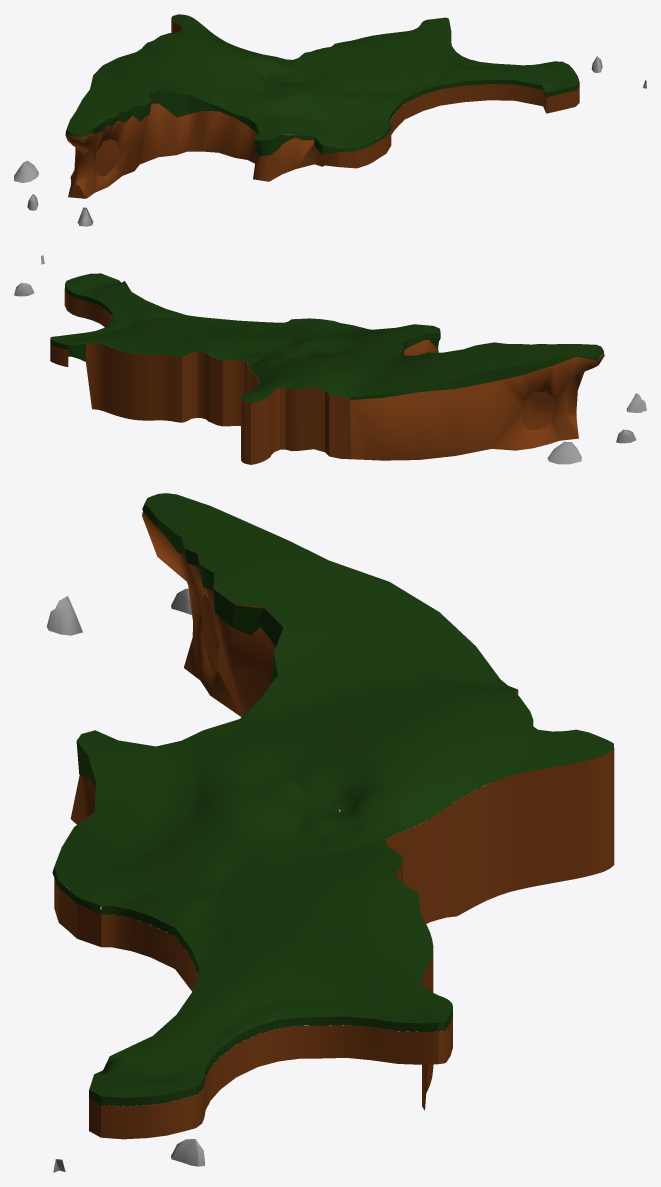
File: ISLA.FBX
The picture shows the model from 3 angles, top to bottom: view 1: azimuth 30°, elevation 25°; view 2: azimuth 150°, elevation 25°; view 3: azimuth 270°, elevation 25°; orthographic projection. The views are drawn at different scales.
Visible parts, largest first — view 1: grass_polygon15; view 2: grass_polygon15; view 3: grass_polygon15.
Part boxes in pixels (bbox=[...]): grass_polygon15: bbox=[14, 14, 646, 226]; grass_polygon15: bbox=[14, 255, 646, 464]; grass_polygon15: bbox=[46, 493, 614, 1172].
Bounding box in the file's own units: 167990 × 29374 × 70319.
